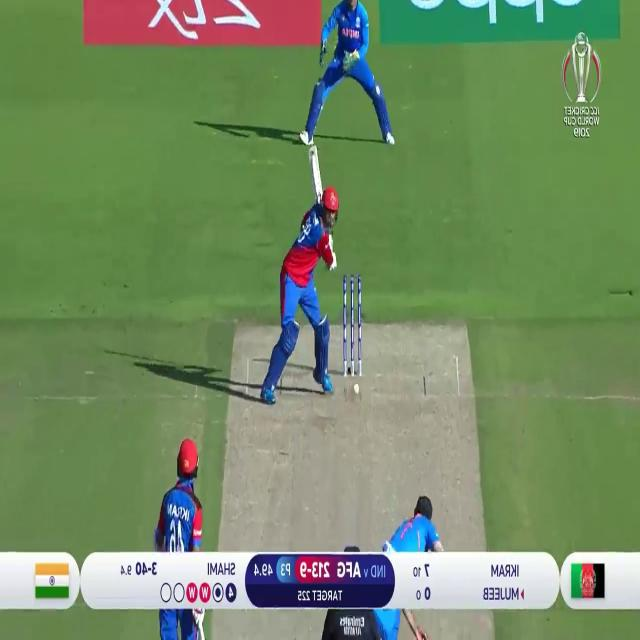ball: (352, 379, 361, 397)
